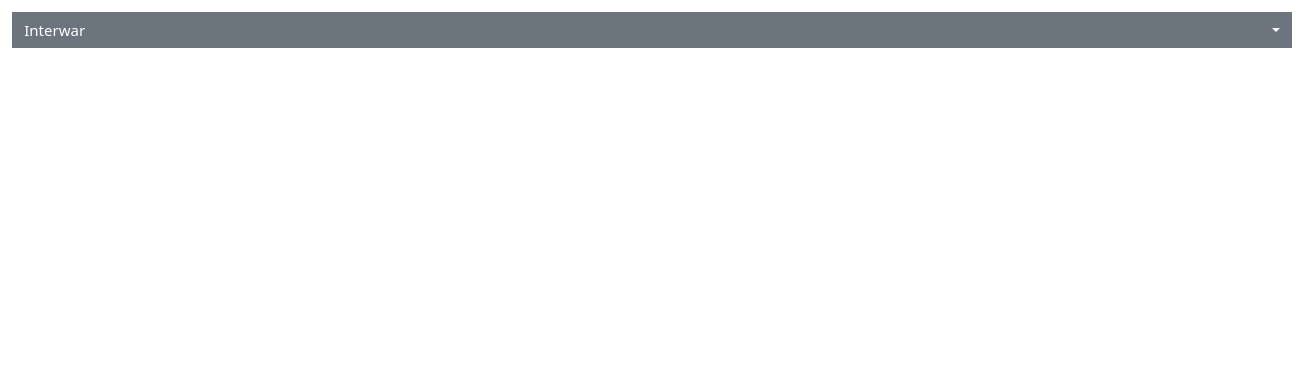
Test: creation dropdowns include date guidance but their summary shows the period name
This screenshot has width=1304, height=367.
Click the button with aria-label "Periods" at (55, 30), box [12, 12, 1292, 48]
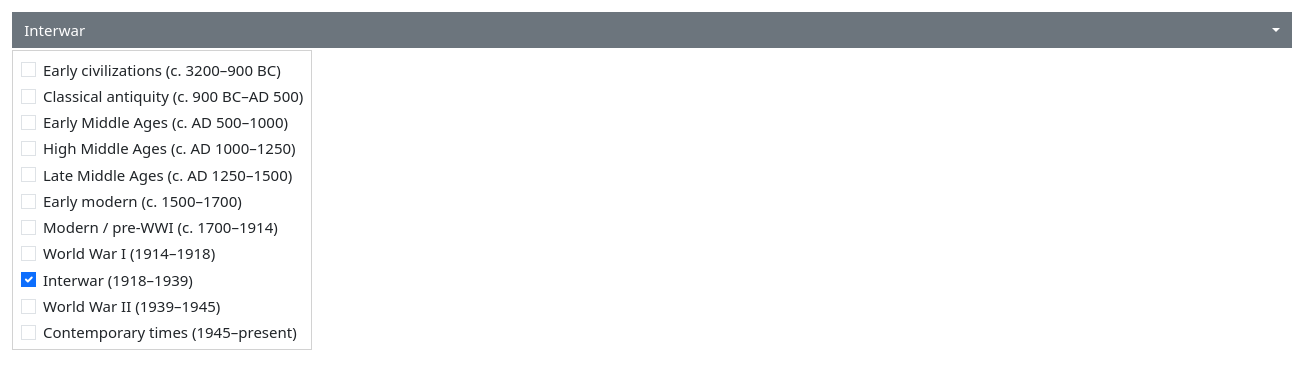
Now the checkbox labelled "Interwar (1918–1939)" is checked, box [20, 272, 36, 287]
